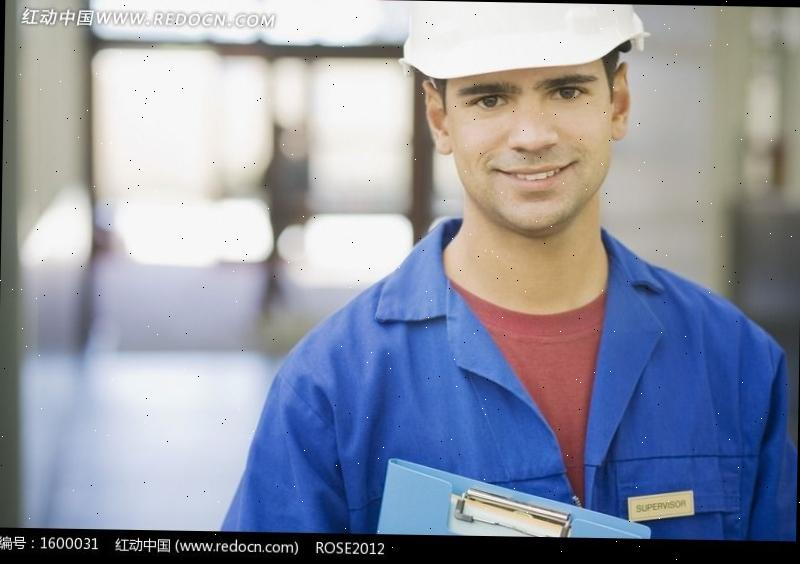helmet: (395, 2, 661, 89)
wear: (228, 272, 798, 538)
